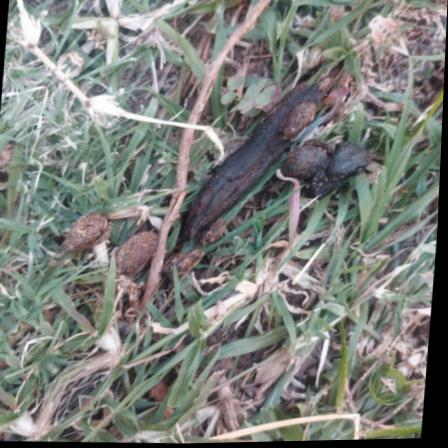dog-poop: (188, 76, 374, 244)
